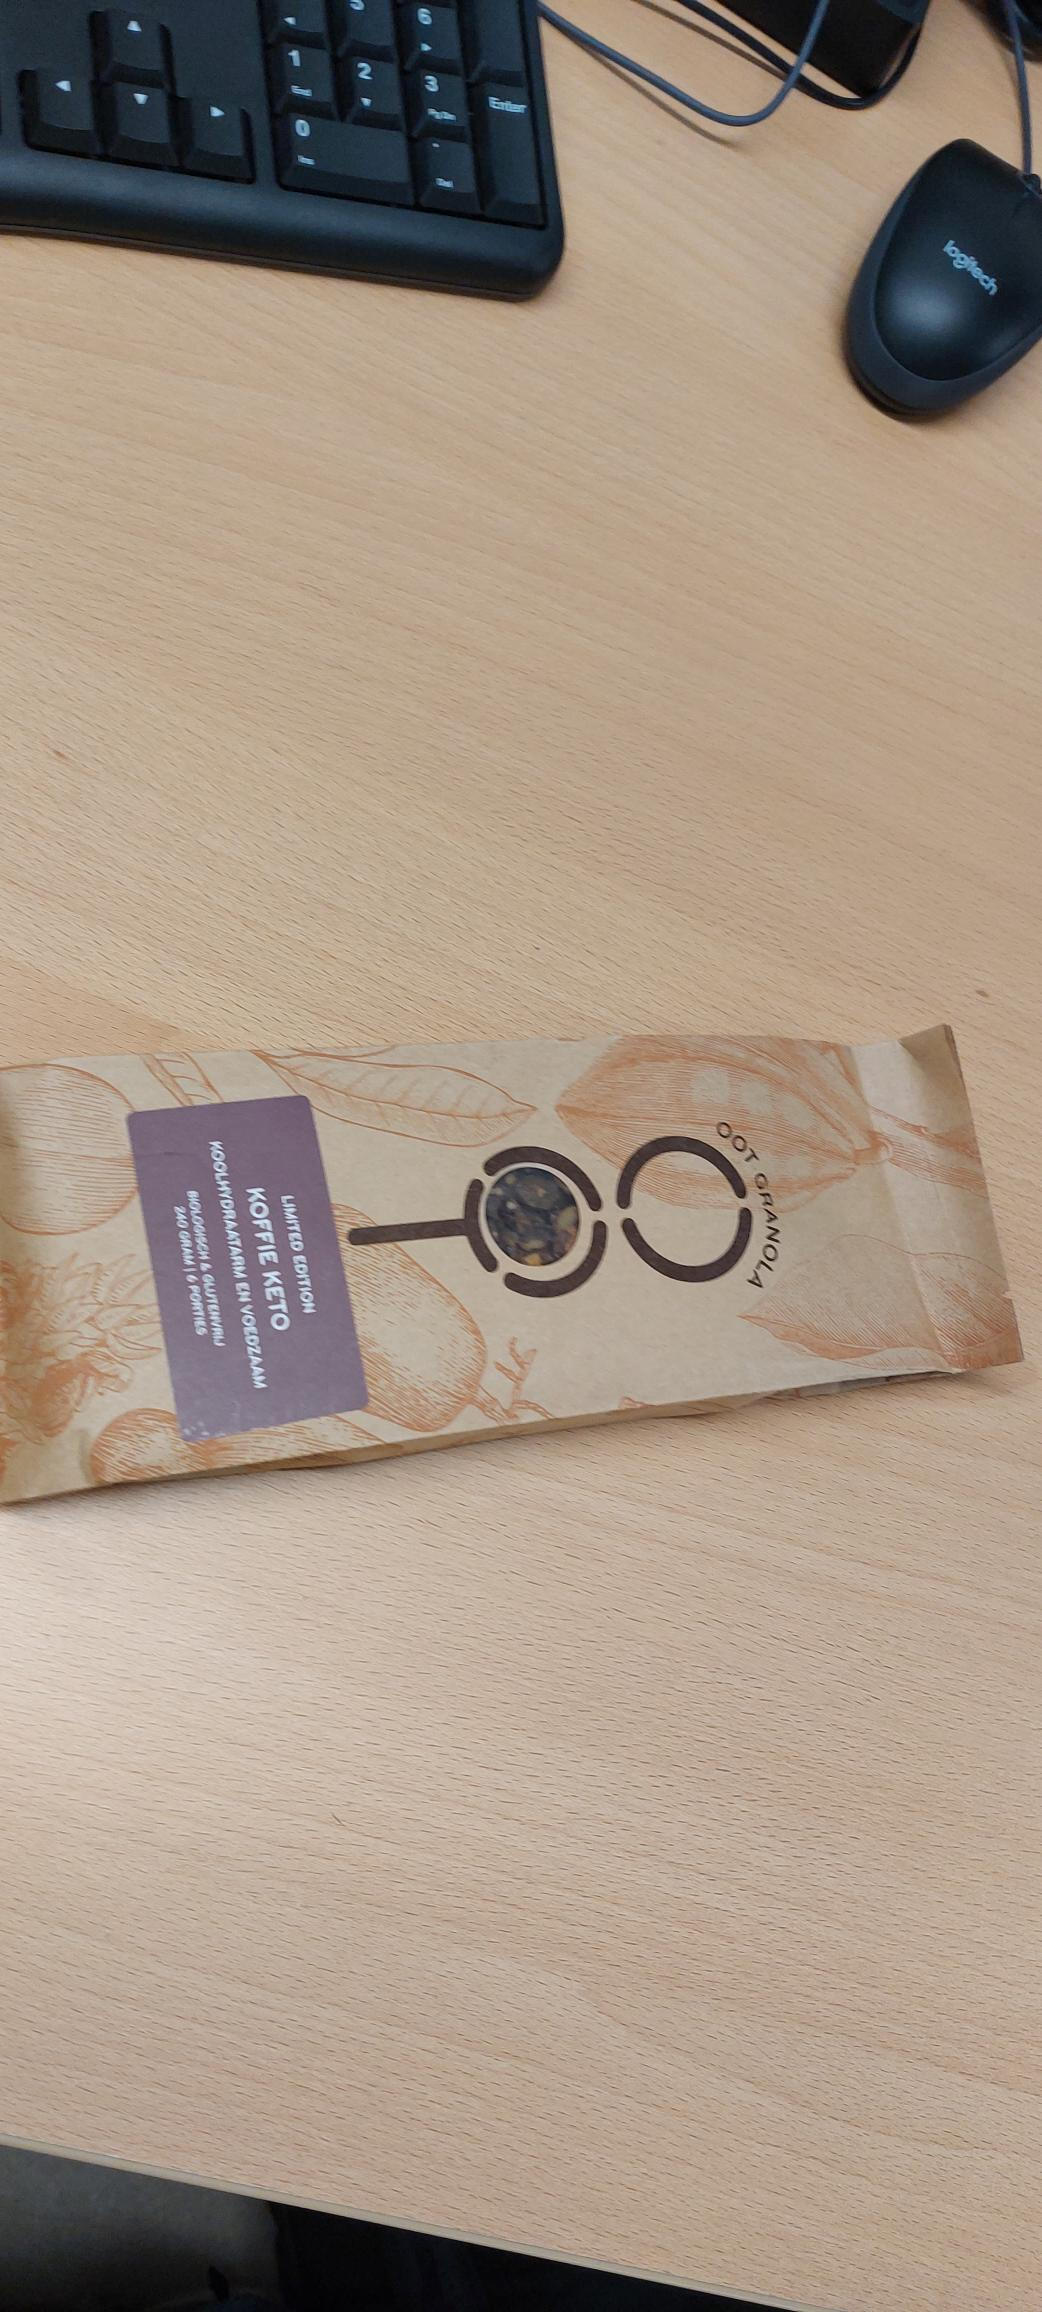KoffieKeto: (116, 1098, 371, 1448)
